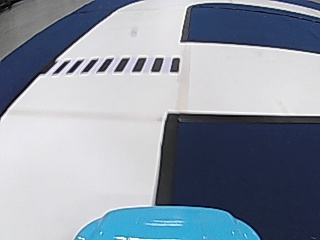CrossWalk: (54, 55, 185, 77)
